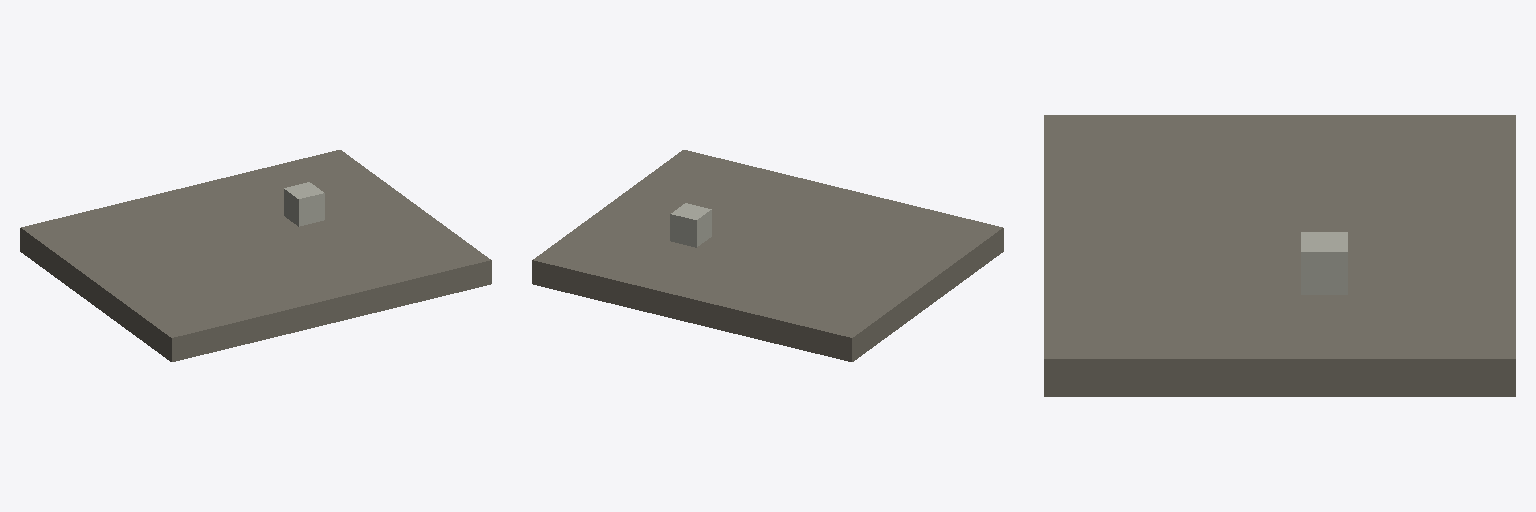
URDF robot description (parttoolgen_hammer_single_cube):
<?xml version="1.0"?>
<robot name="parttoolgen_hammer_single_cube">
  <link name="table_with_target_cube">
    <visual>
      <material name="wood">
        <color rgba="0.52 0.50 0.46 1.0"/>
      </material>
      <origin xyz="0 0 0"/>
      <geometry>
        <box size="0.55 0.45 0.04"/>
      </geometry>
    </visual>
    <collision>
      <origin xyz="0 0 0"/>
      <geometry>
        <box size="0.55 0.45 0.04"/>
      </geometry>
    </collision>

    <visual>
      <material name="target_cube">
        <color rgba="0.72 0.72 0.68 1.0"/>
      </material>
      <origin xyz="0.10753847773962902 0.04277440169012331 0.042499999999999996"/>
      <geometry>
        <box size="0.045 0.045 0.045"/>
      </geometry>
    </visual>
    <collision>
      <origin xyz="0.10753847773962902 0.04277440169012331 0.042499999999999996"/>
      <geometry>
        <box size="0.045 0.045 0.045"/>
      </geometry>
    </collision>

    <inertial>
      <mass value="500"/>
      <friction value="1.0"/>
      <inertia ixx="1000.0" ixy="0.0" ixz="0.0" iyy="1000.0" iyz="0.0" izz="1000.0"/>
    </inertial>
  </link>
</robot>

--- Facts derived from the render (not from the file) ---
The picture shows the robot from 3 angles, left to right: view 1: azimuth 30°, elevation 25°; view 2: azimuth 150°, elevation 25°; view 3: azimuth 270°, elevation 25°; orthographic projection.
Robot: parttoolgen_hammer_single_cube — 1 links, 0 joints (none); root link table_with_target_cube; default pose: all joints at 0.
Visible links, largest first — view 1: table_with_target_cube; view 2: table_with_target_cube; view 3: table_with_target_cube.
Link boxes in pixels (x1,y1,x2,y2): table_with_target_cube: (20,150,491,361); table_with_target_cube: (532,150,1003,361); table_with_target_cube: (1044,115,1515,396).
Size in the robot's own frame: 0.55 by 0.45 by 0.085 metres.
Geometry: primitives only (box / cylinder / sphere), no mesh files.
